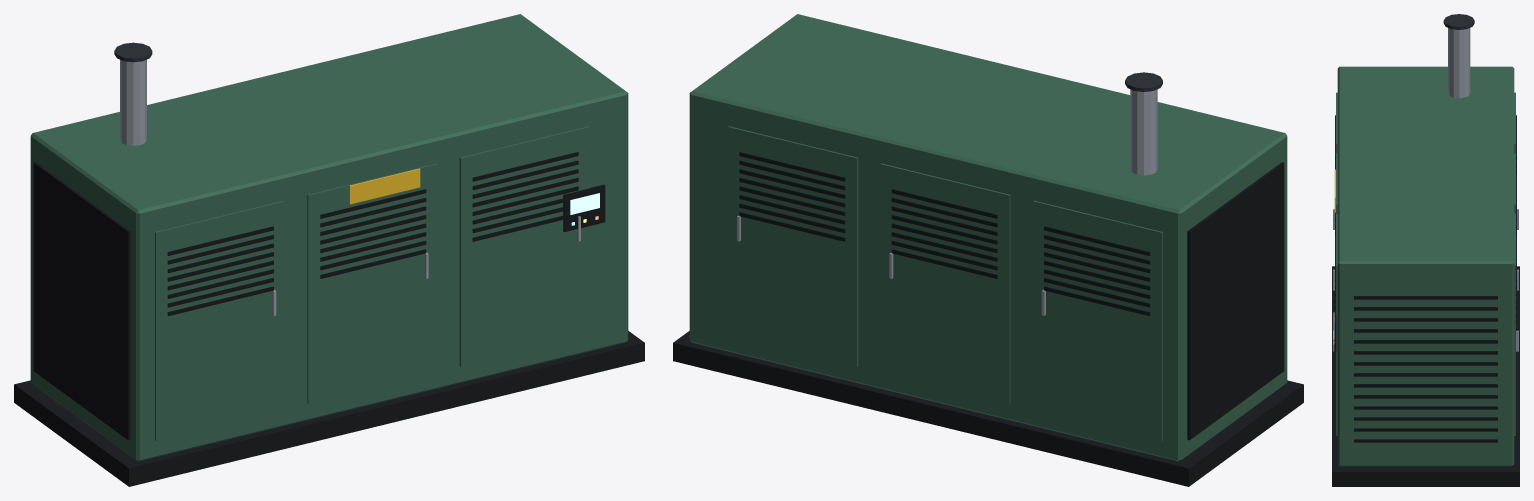
The model's file is 45_Diesel_Generator_Container.fbx.
3 renders of one model, left to right at view 1: azimuth 30°, elevation 25°; view 2: azimuth 150°, elevation 25°; view 3: azimuth 270°, elevation 25°, orthographic. The views are drawn at different scales.
Visible parts, largest first — view 1: 45_Diesel_Generator_Container; view 2: 45_Diesel_Generator_Container; view 3: 45_Diesel_Generator_Container.
Boxes of the visible parts, bbox=[...] form: 45_Diesel_Generator_Container: bbox=[14, 14, 644, 486]; 45_Diesel_Generator_Container: bbox=[673, 14, 1303, 486]; 45_Diesel_Generator_Container: bbox=[1332, 14, 1519, 486].
Bounding box in the file's own units: 440 × 293 × 170.
